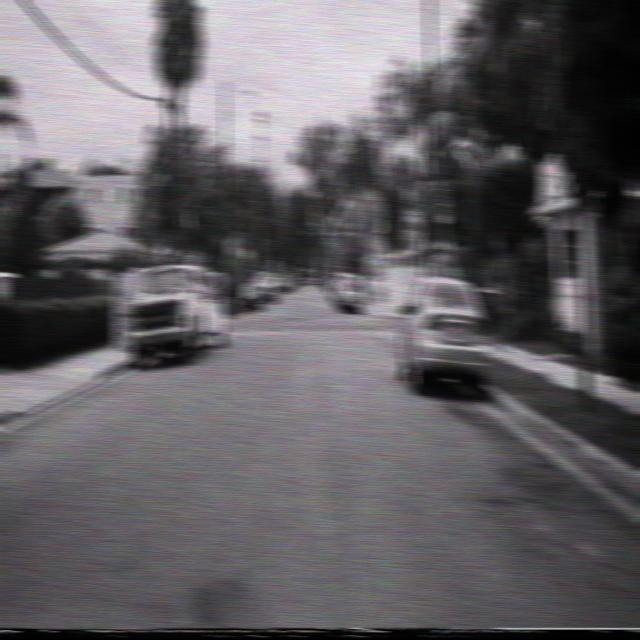stop: (399, 218, 420, 252)
